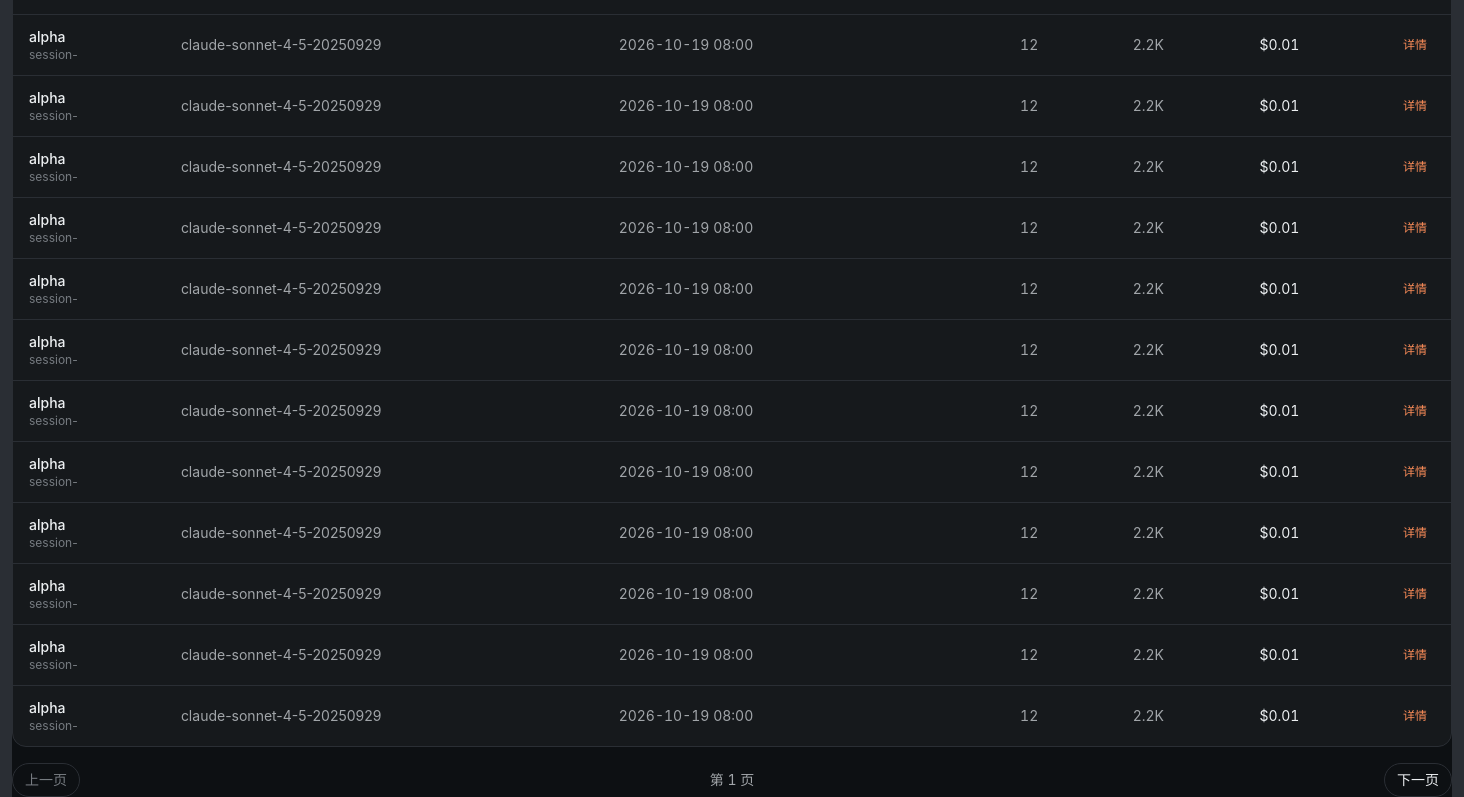
Scenario: SessionsPage › 切换项目筛选时回到第一页
(page scrolled)
Click the button "下一页" at (1418,780), box [1384,763,1452,796]
(page scrolled)
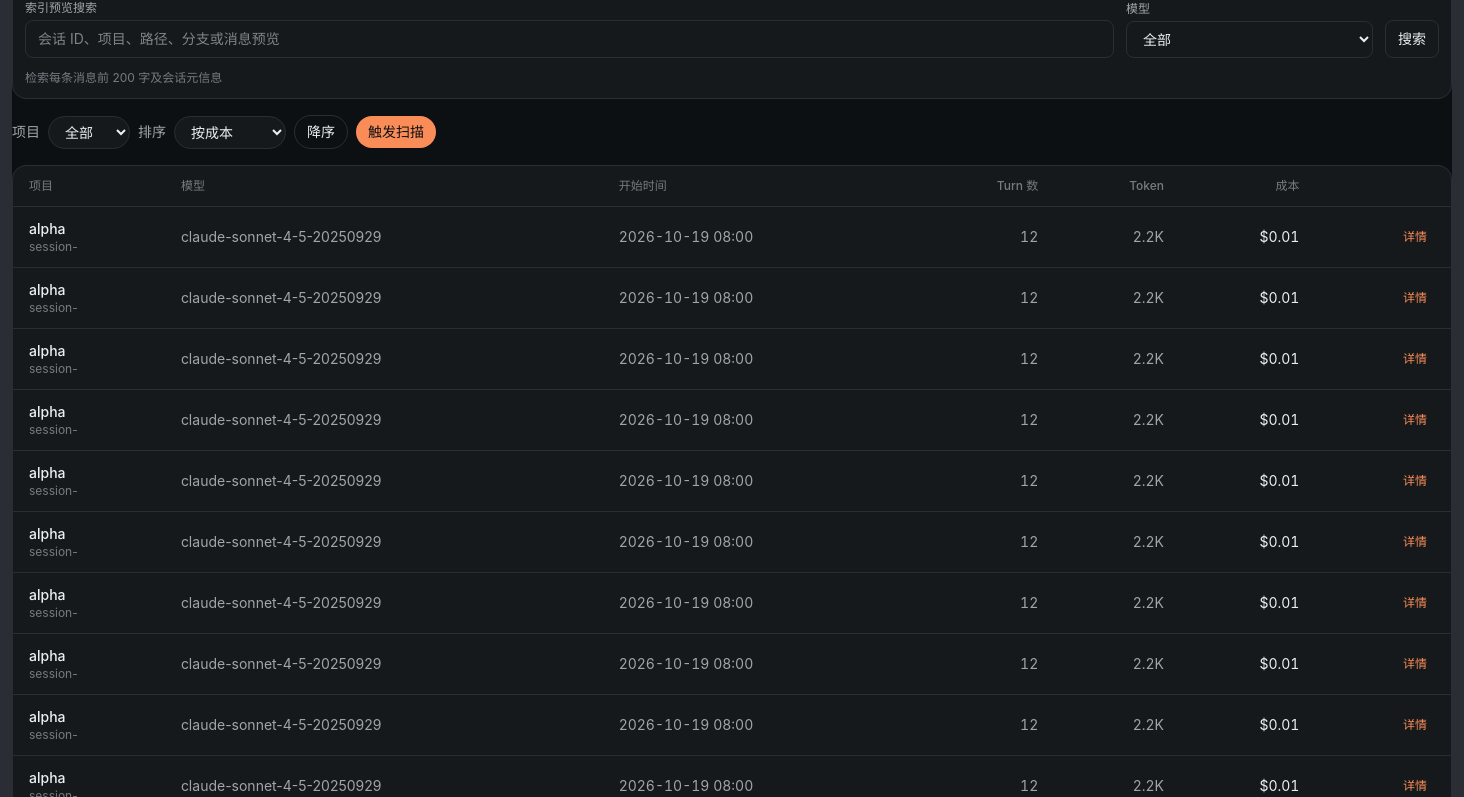
Select "alpha" in the dropdown labelled "项目" at (89,132), box [48,116,130,148]
(page scrolled)
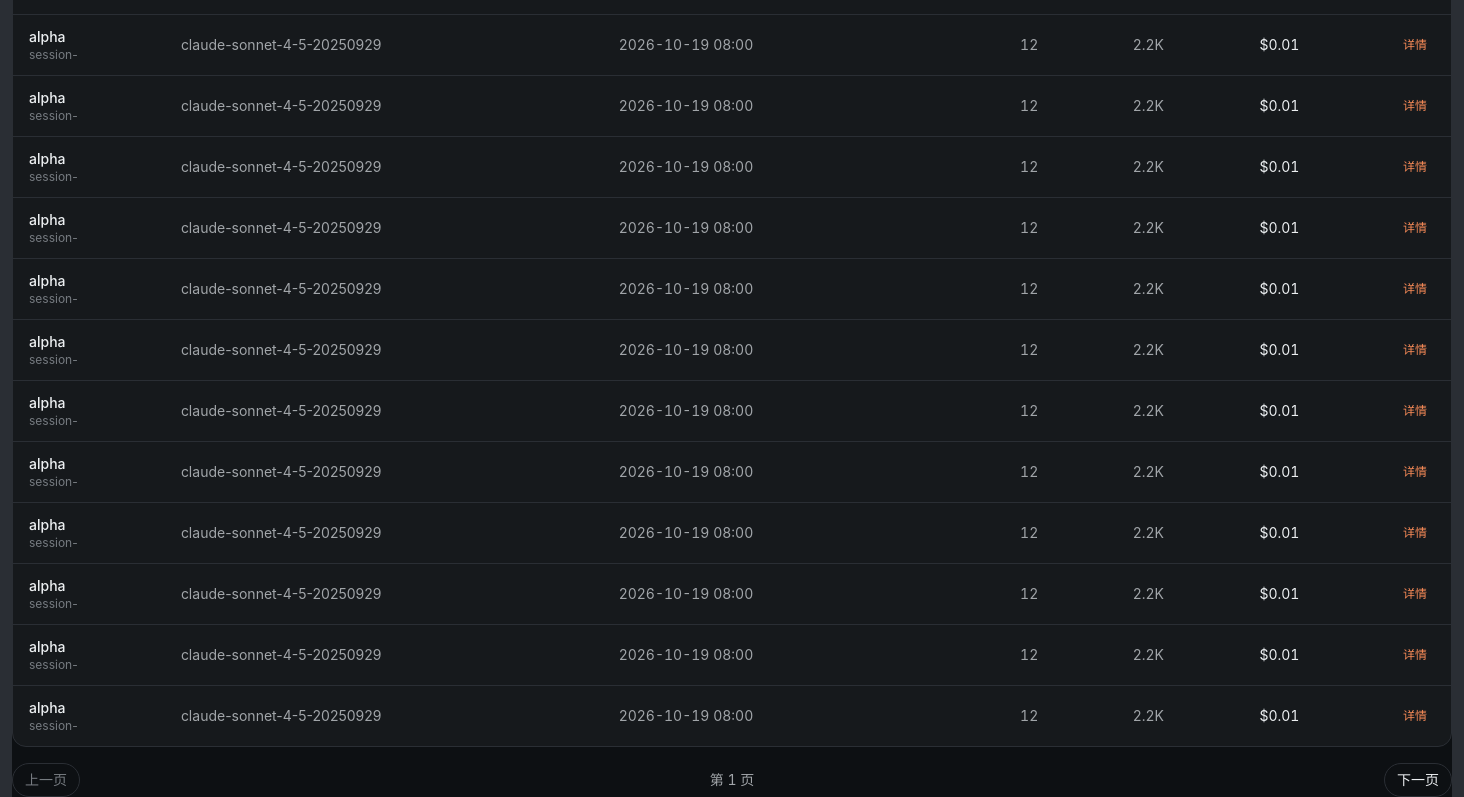
expect the text "第 1 页" is shown: met, box [710,770,754,790]
